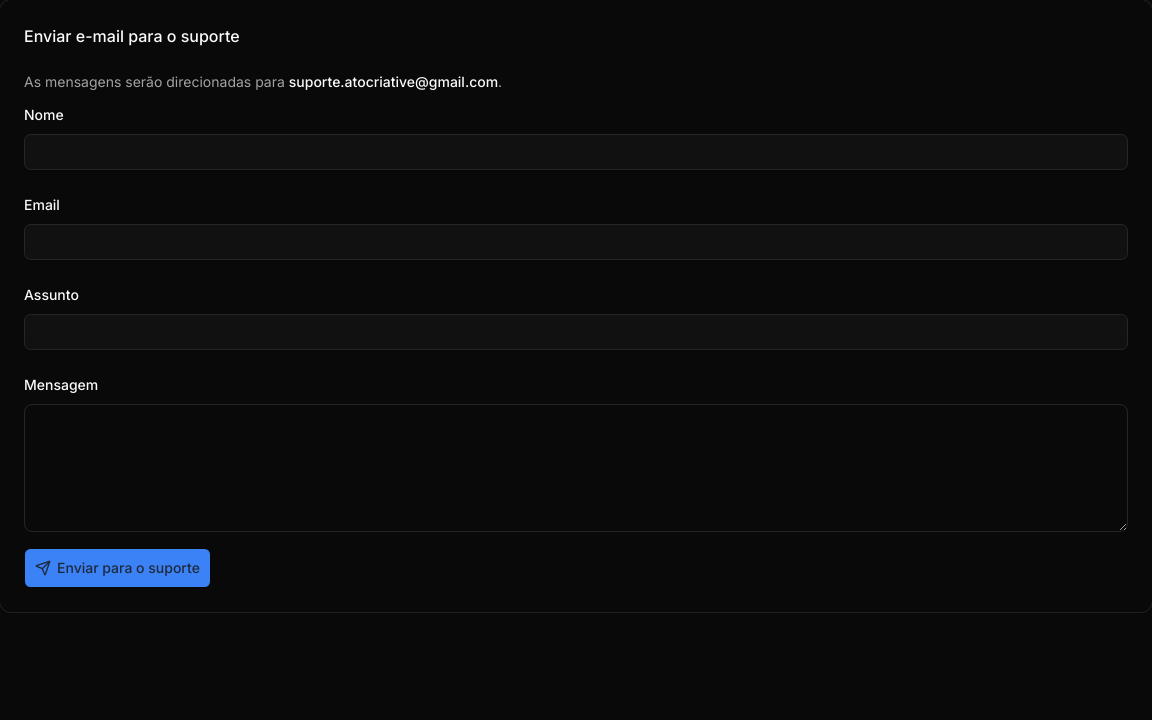
Test: support email form › form validation › shows validation errors when submitting empty fields
The image size is (1152, 720).
Click the button "Enviar para o suporte": (117, 568) [24,548,211,588]
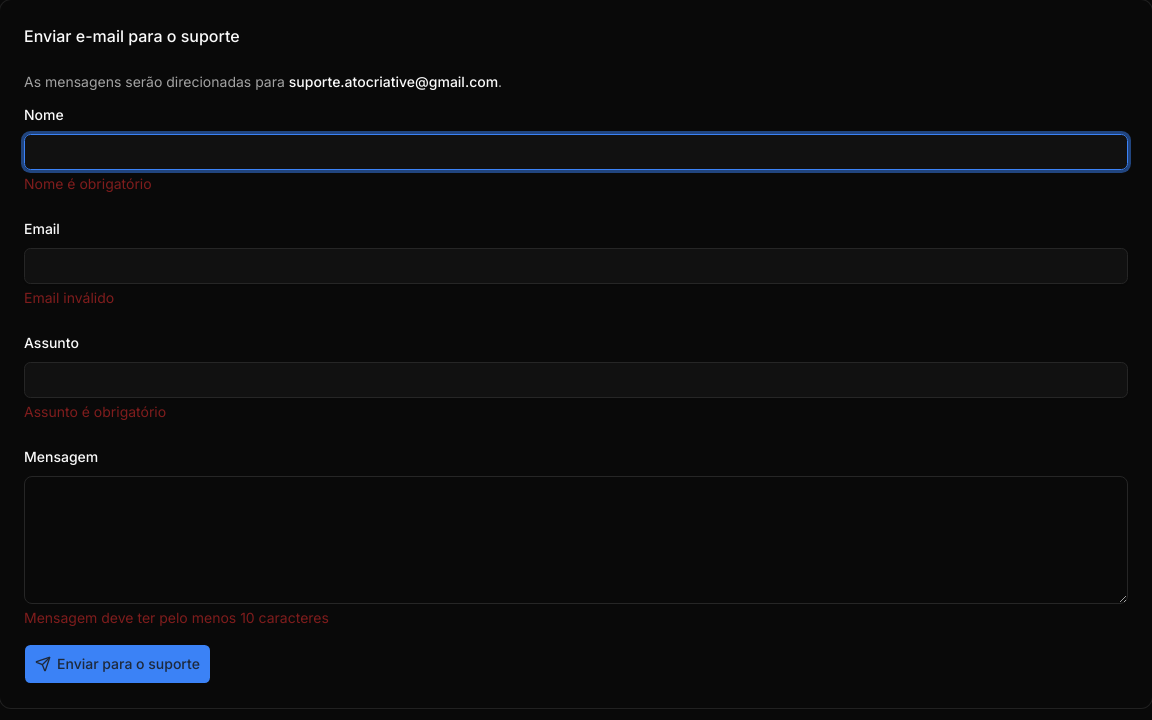
expect the text "Nome é obrigatório" is shown: met, box [24,175,152,192]
expect the text "Email inválido" is shown: met, box [24,289,114,306]
